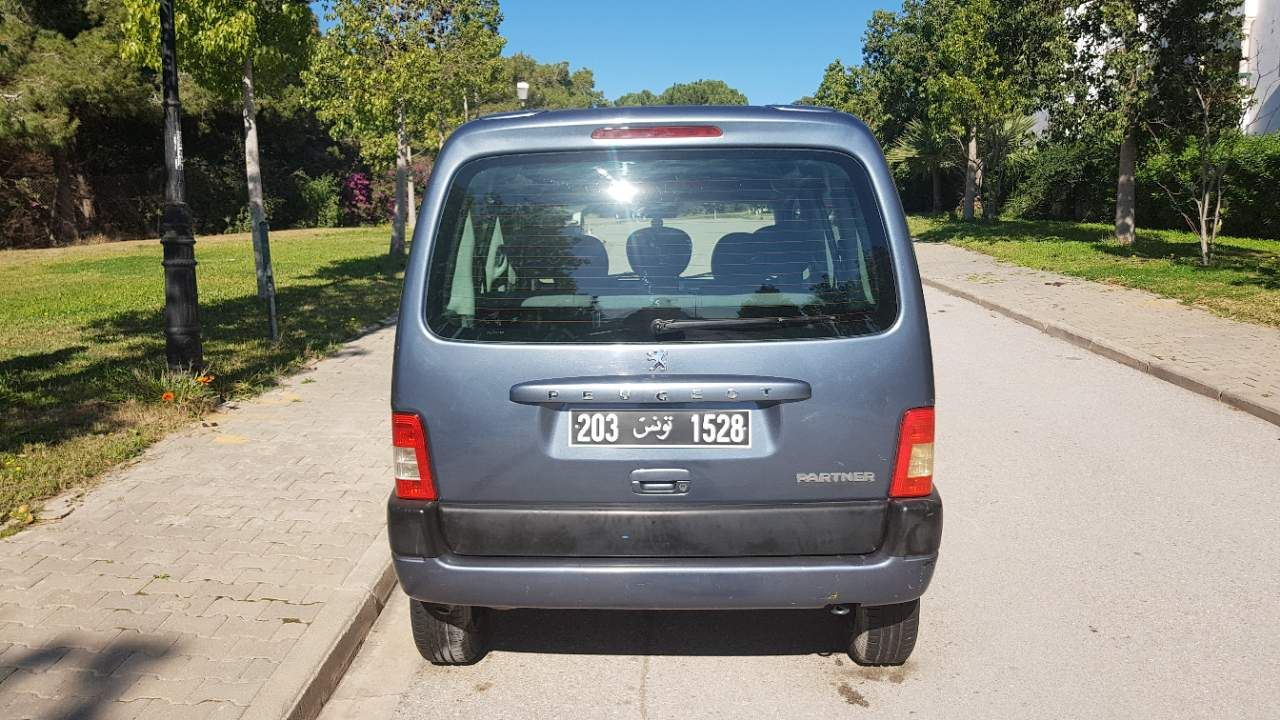LP: (567, 407, 758, 450)
